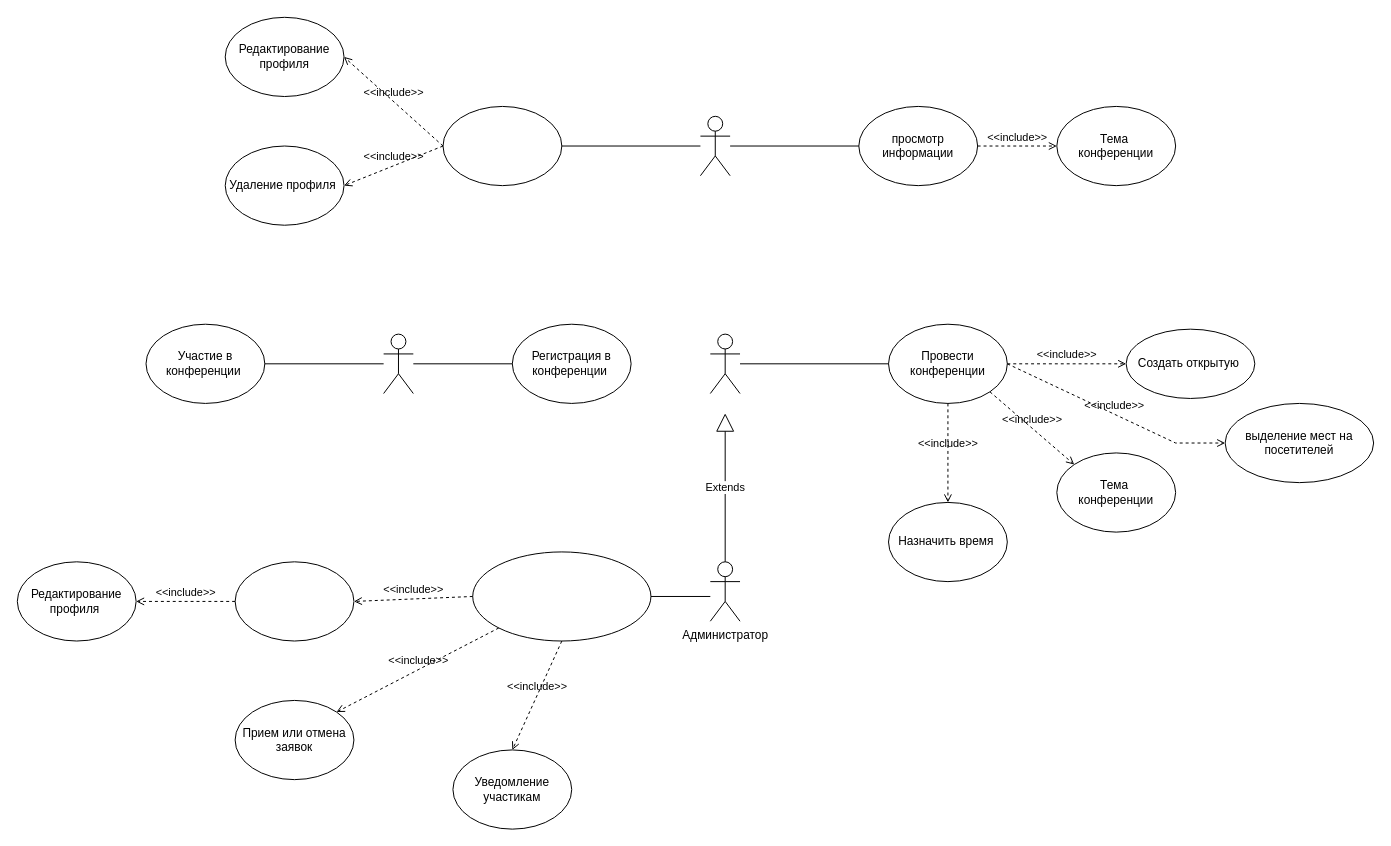
This 1391x846 diagram has some shape labels left out. Here are the shapes that lost their labels. From the top down, the centre of each, then its label:
At [502,145]: "Создание профиля".
At [714,145]: "Посетитель".
At [398,363]: "Ученый".
At [724,363]: "Организатор".
At [294,601]: "Регистрация участников".
At [561,596]: "Взаимодействие с данными о участниках".
